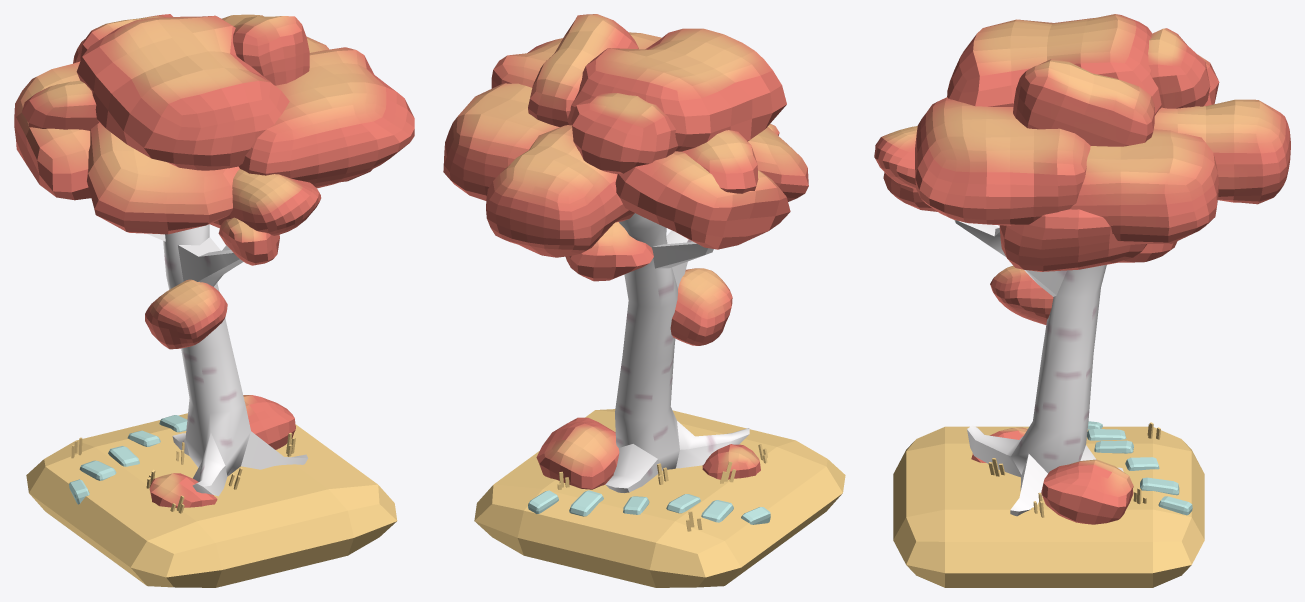
3 renders of one model, left to right at view 1: azimuth 30°, elevation 25°; view 2: azimuth 150°, elevation 25°; view 3: azimuth 270°, elevation 25°, orthographic. The views are drawn at different scales.
Visible parts, largest first — view 1: pPlane1, pCube7, pCube11, pCube1, pCube12, pCube4, pCube2, pCube15, pCube3, pCube5, pasted__pCube8, pCube6 (+2 smaller); view 2: pPlane1, pCube1, pCube7, pCube9, pCube4, pCube13, pCube10, pCube15, pasted__pCube8, pCube3, pCube5, pCube8 (+4 smaller); view 3: pPlane1, pCube11, pCube1, pCube13, pCube7, pCube15, pCube9, pCube14, pasted__pCube8, pCube10, pCube3, pCube2 (+2 smaller).
Part boxes in pixels (<box>): pPlane1: <box>26,413,397,587</box>; pCube7: <box>76,15,289,170</box>; pCube11: <box>239,47,414,188</box>; pCube1: <box>147,224,308,496</box>; pCube12: <box>87,123,239,234</box>; pCube4: <box>14,61,91,200</box>; pCube2: <box>209,169,321,235</box>; pCube15: <box>221,14,309,85</box>; pCube3: <box>145,279,227,349</box>; pCube5: <box>22,80,99,130</box>; pasted__pCube8: <box>243,395,295,449</box>; pCube6: <box>218,217,279,265</box>; pPlane1: <box>474,409,845,587</box>; pCube1: <box>605,213,749,492</box>; pCube7: <box>567,28,786,151</box>; pCube9: <box>486,125,634,257</box>; pCube4: <box>615,151,790,249</box>; pCube13: <box>443,83,559,200</box>; pCube10: <box>571,93,678,174</box>; pCube15: <box>528,14,638,126</box>; pasted__pCube8: <box>536,417,619,489</box>; pCube3: <box>670,268,732,345</box>; pCube5: <box>682,130,758,193</box>; pCube8: <box>565,222,653,281</box>; pPlane1: <box>893,426,1204,587</box>; pCube11: <box>915,97,1090,226</box>; pCube1: <box>954,220,1123,516</box>; pCube13: <box>1070,129,1218,243</box>; pCube7: <box>947,14,1161,115</box>; pCube15: <box>1013,59,1154,146</box>; pCube9: <box>1153,99,1290,204</box>; pCube14: <box>999,209,1146,271</box>; pasted__pCube8: <box>1041,459,1133,524</box>; pCube10: <box>1148,28,1210,108</box>; pCube3: <box>990,265,1053,324</box>; pCube2: <box>874,126,917,189</box>.
Size of the model in its own units: 4.82 by 7.16 by 5.35.
Materials: 29 (1 with a texture image).
